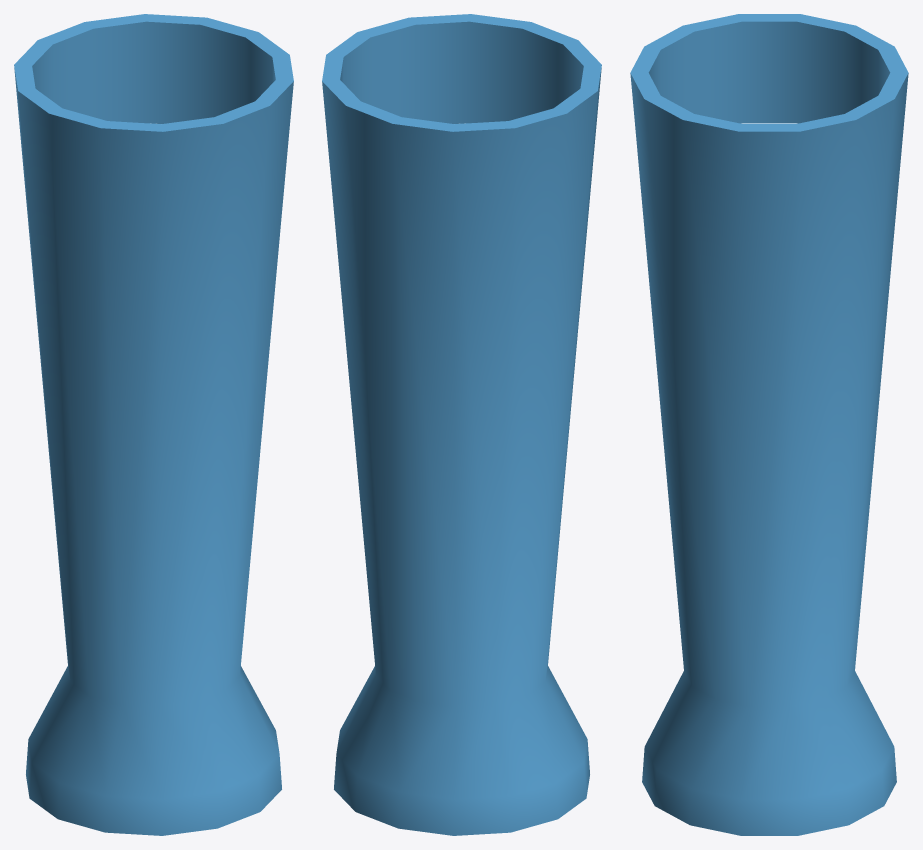
File: Glass-2.fbx
The picture shows the model from 3 angles, left to right: view 1: azimuth 30°, elevation 25°; view 2: azimuth 150°, elevation 25°; view 3: azimuth 270°, elevation 25°; orthographic projection.
Parts seen in each view (by area): view 1: Glass-2; view 2: Glass-2; view 3: Glass-2.
Boxes of the visible parts, left/top/right/bottom form: Glass-2: left=14, top=14, right=293, bottom=835; Glass-2: left=322, top=14, right=601, bottom=835; Glass-2: left=630, top=14, right=908, bottom=835.
Size of the model in its own units: 0.0679 by 0.1911 by 0.0679.
